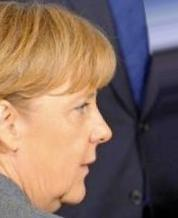face: (66, 92, 112, 180)
